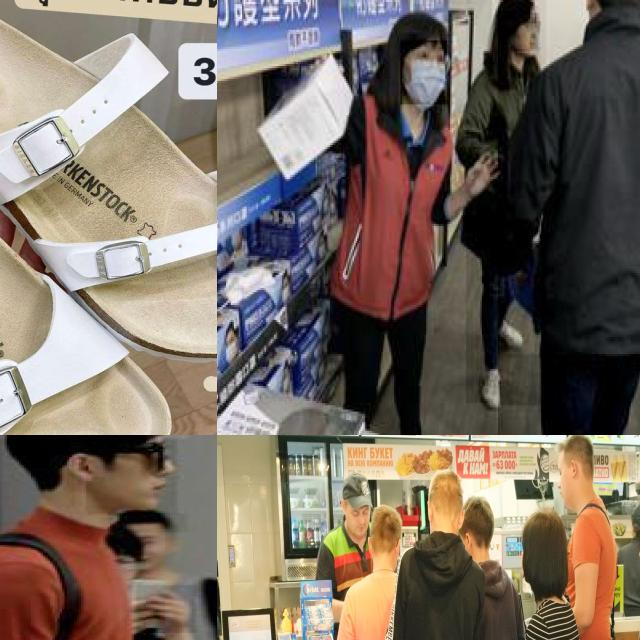No_Ear-Protection: (62, 451, 100, 484)
Sandals: (0, 0, 217, 384), (0, 111, 198, 435)
face_mask: (401, 40, 448, 106)
face_nomask: (86, 438, 177, 514), (115, 532, 172, 572), (514, 13, 541, 53)
hand_noglove: (136, 585, 196, 633), (458, 147, 500, 205)
head_nohelmet: (394, 10, 447, 49), (108, 513, 186, 532), (499, 0, 536, 23)
person: (498, 0, 640, 435), (508, 0, 640, 354), (0, 435, 217, 640), (466, 0, 546, 405)
